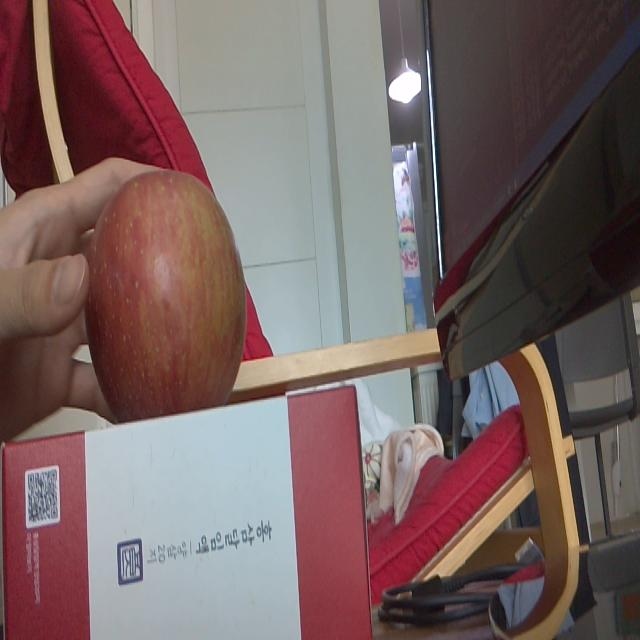apple: (85, 165, 249, 411)
